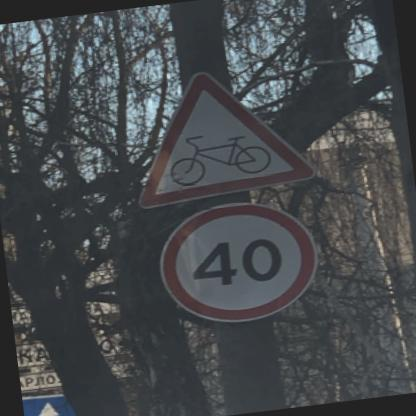speedlimit: (151, 193, 320, 328)
